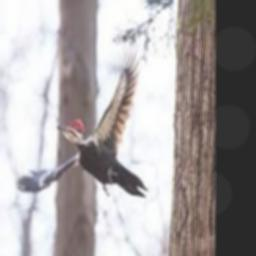Woodpecker: (16, 45, 147, 196)
